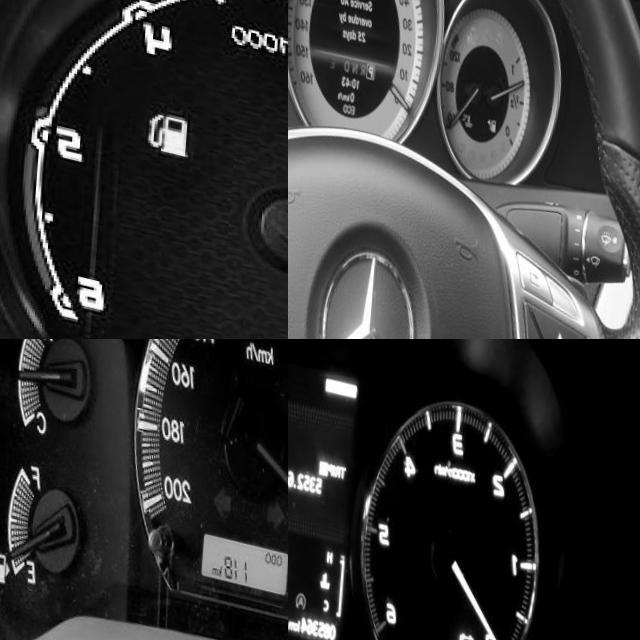Engine cooling system: (466, 93, 477, 108)
